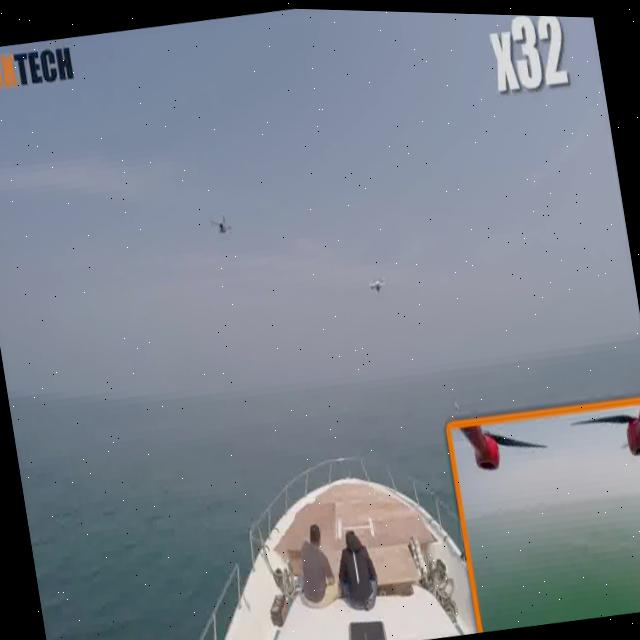drone: (203, 203, 234, 254), (362, 261, 390, 309)
